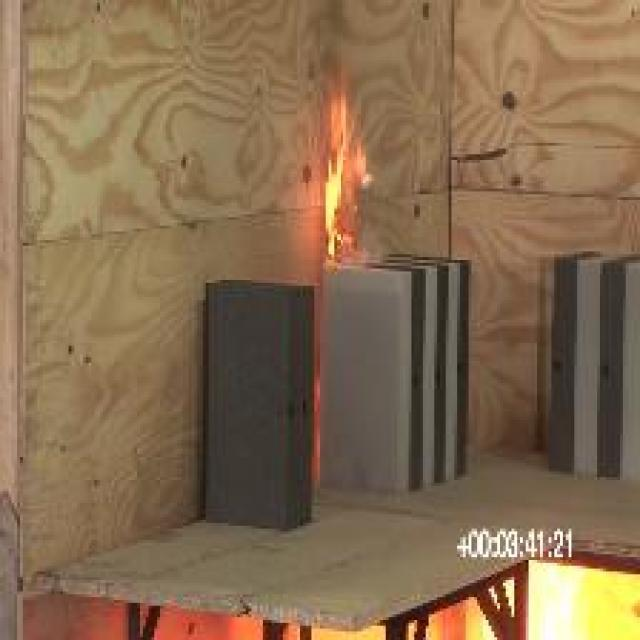Fire: (328, 68, 376, 260)
